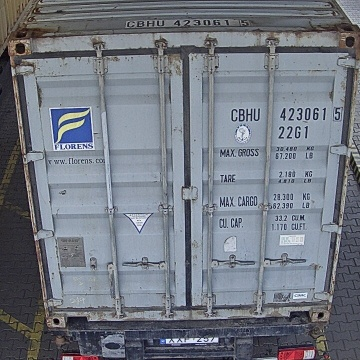serial_id: (231, 106, 343, 121)
